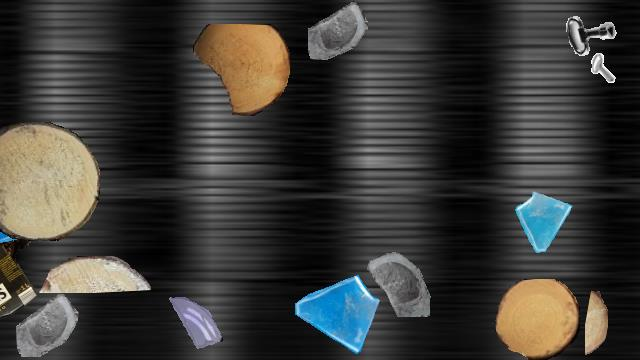glass: (291, 269, 381, 359), (357, 240, 433, 316), (512, 190, 576, 254), (16, 294, 78, 356), (308, 1, 368, 61), (0, 124, 39, 216), (166, 295, 224, 353), (0, 190, 29, 254)
metal: (559, 1, 621, 63), (567, 51, 615, 99)
plastic: (0, 224, 37, 332)
wood: (0, 122, 99, 240), (193, 24, 289, 116), (495, 279, 579, 359), (37, 256, 151, 292), (585, 291, 607, 359)
